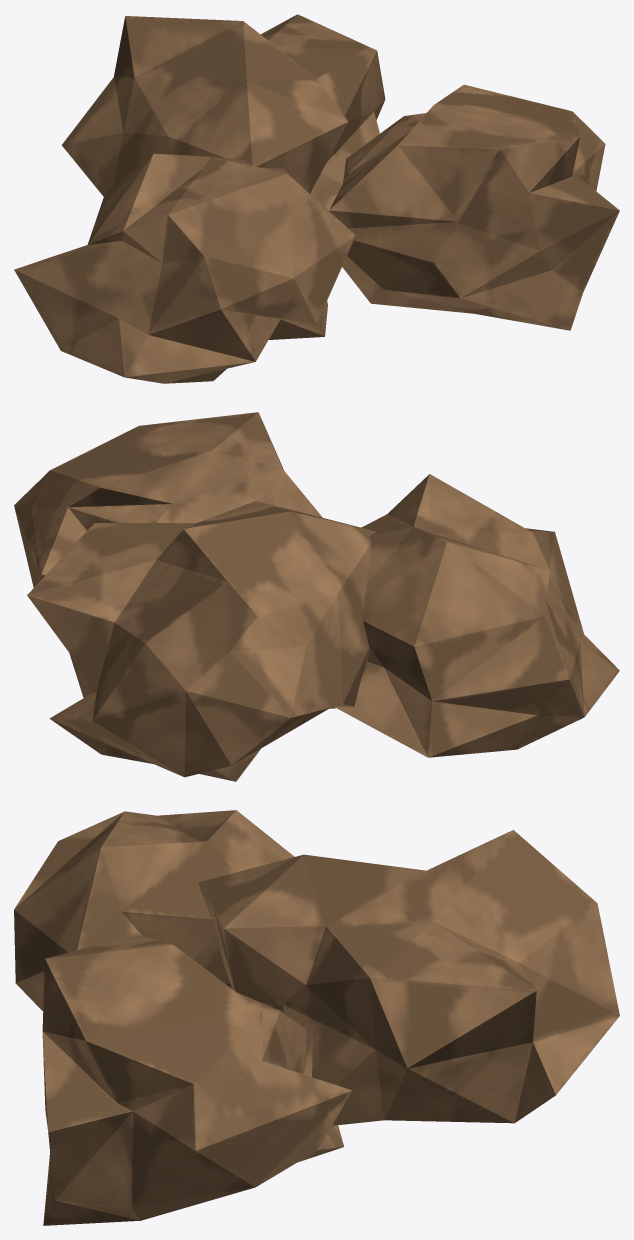
Rendered from copper_ore_3.glb.
3 views of the same model, one above another, from view 1: azimuth 30°, elevation 25°; view 2: azimuth 150°, elevation 25°; view 3: azimuth 270°, elevation 25° (orthographic). The views are drawn at different scales.
Parts seen in each view (by area): view 1: stone_3; view 2: stone_3; view 3: stone_3.
Part boxes in pixels (x1,y1,x2,y2): stone_3: (14, 14, 619, 383); stone_3: (14, 412, 619, 781); stone_3: (14, 810, 619, 1225).
Size of the model in its own units: 0.579 by 0.2242 by 0.4673.
1 material, 1 textured.
